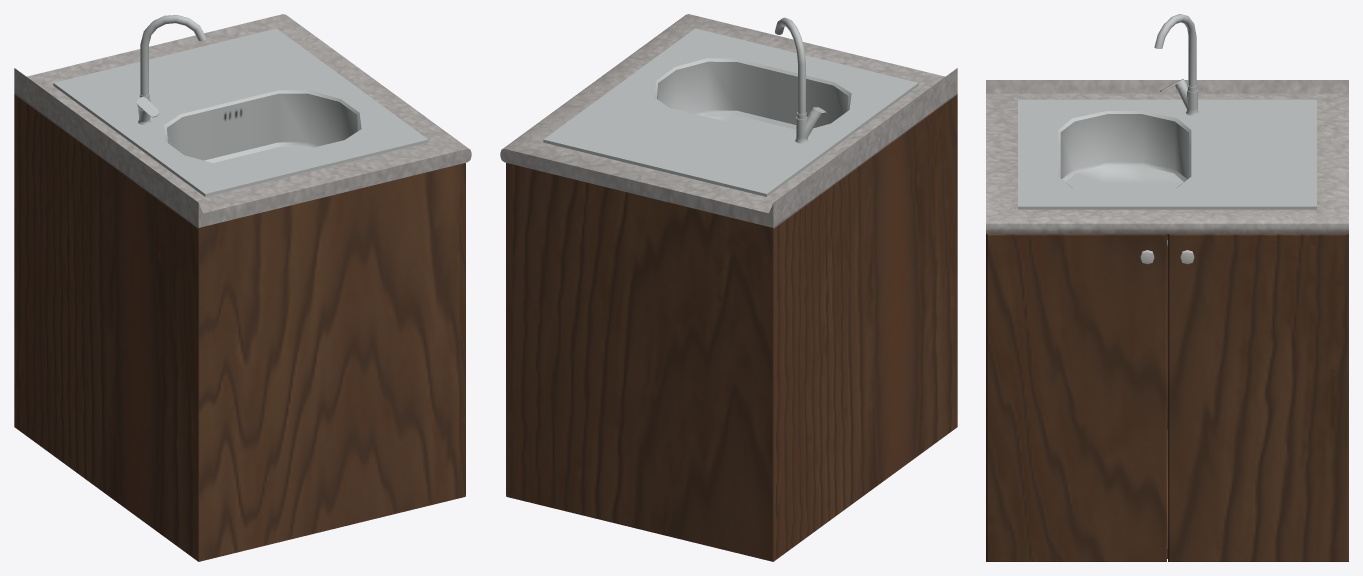
Rendered from CabinetWithSink.obj.
The picture shows the model from 3 angles, left to right: view 1: azimuth 30°, elevation 25°; view 2: azimuth 150°, elevation 25°; view 3: azimuth 270°, elevation 25°; orthographic projection.
Visible parts, largest first — view 1: KitchenCabinetWtichSink; view 2: KitchenCabinetWtichSink; view 3: KitchenCabinetWtichSink.
Boxes of the visible parts, x1,y1,x2,y2 form: KitchenCabinetWtichSink: (14, 14, 471, 561); KitchenCabinetWtichSink: (500, 14, 957, 561); KitchenCabinetWtichSink: (986, 14, 1348, 561).
Size of the model in its own units: 0.6921 by 1.1 by 0.8.
